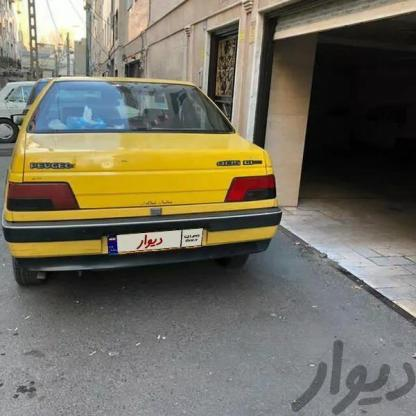Car: (0, 64, 278, 292), (0, 77, 54, 141)
